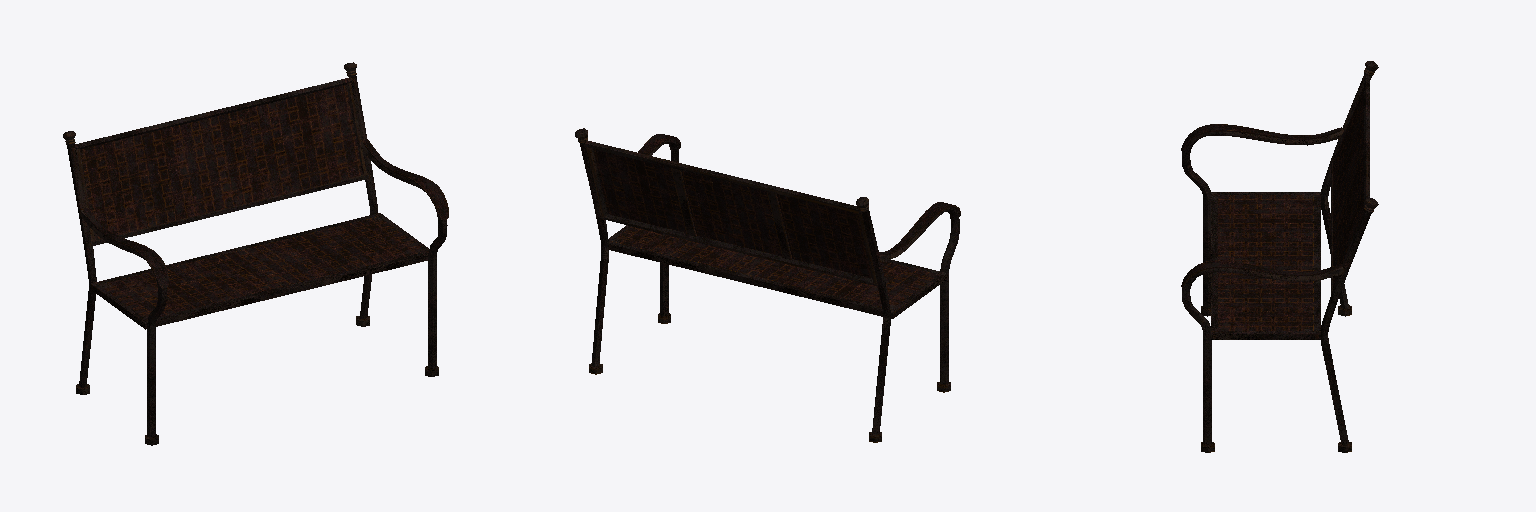
The picture shows the model from 3 angles: view 1: azimuth 30°, elevation 25°; view 2: azimuth 150°, elevation 25°; view 3: azimuth 270°, elevation 25°; orthographic projection.
Parts seen in each view (by area): view 1: Asylum_Exterior_Bench01_12; view 2: Asylum_Exterior_Bench01_12; view 3: Asylum_Exterior_Bench01_12.
Boxes of the visible parts, box(x1,y1,x2,y2) form: Asylum_Exterior_Bench01_12: box(63, 62, 448, 445); Asylum_Exterior_Bench01_12: box(575, 128, 960, 442); Asylum_Exterior_Bench01_12: box(1181, 61, 1378, 452).
Size of the model in its own units: 86 by 70.25 by 50.03.
Materials: 1 (1 with a texture image).